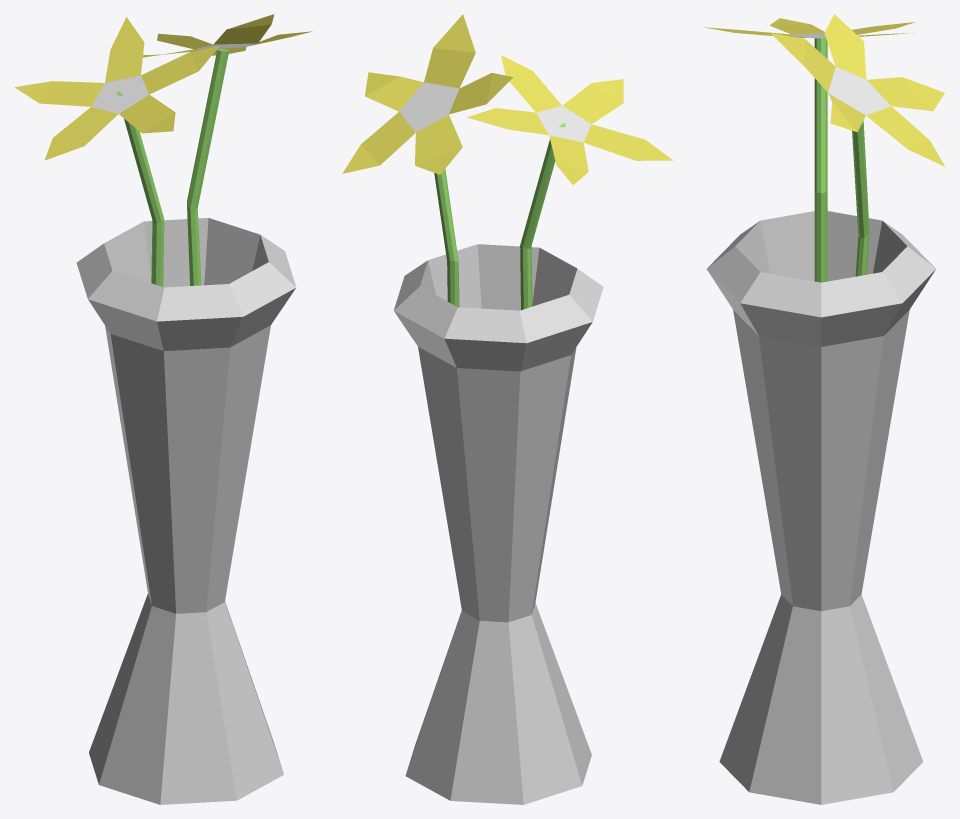
Rendered from vase.glb.
3 views of the same model, side by side, from view 1: azimuth 30°, elevation 25°; view 2: azimuth 150°, elevation 25°; view 3: azimuth 270°, elevation 25° (orthographic). The views are drawn at different scales.
Parts seen in each view (by area): view 1: Vase, Pedal2, Stem1, Pedal1, Stem2; view 2: Vase, Pedal1, Pedal2, Stem2, Stem1; view 3: Vase, Pedal1, Stem2, Stem1, Pedal2.
Boxes of the visible parts, box(x1,y1,x2,y2) form: Vase: box(76, 218, 296, 804); Pedal2: box(15, 17, 219, 160); Stem1: box(187, 49, 229, 285); Pedal1: box(143, 14, 312, 57); Stem2: box(116, 91, 164, 286); Vase: box(393, 244, 603, 804); Pedal1: box(342, 14, 512, 174); Pedal2: box(467, 55, 673, 184); Stem2: box(520, 122, 565, 310); Stem1: box(434, 169, 459, 307); Vase: box(707, 211, 935, 804); Pedal1: box(770, 14, 945, 166); Stem2: box(814, 35, 827, 282); Stem1: box(852, 120, 869, 276); Pedal2: box(704, 18, 915, 38).
Size of the model in its own units: 0.7688 by 1.88 by 0.545.
